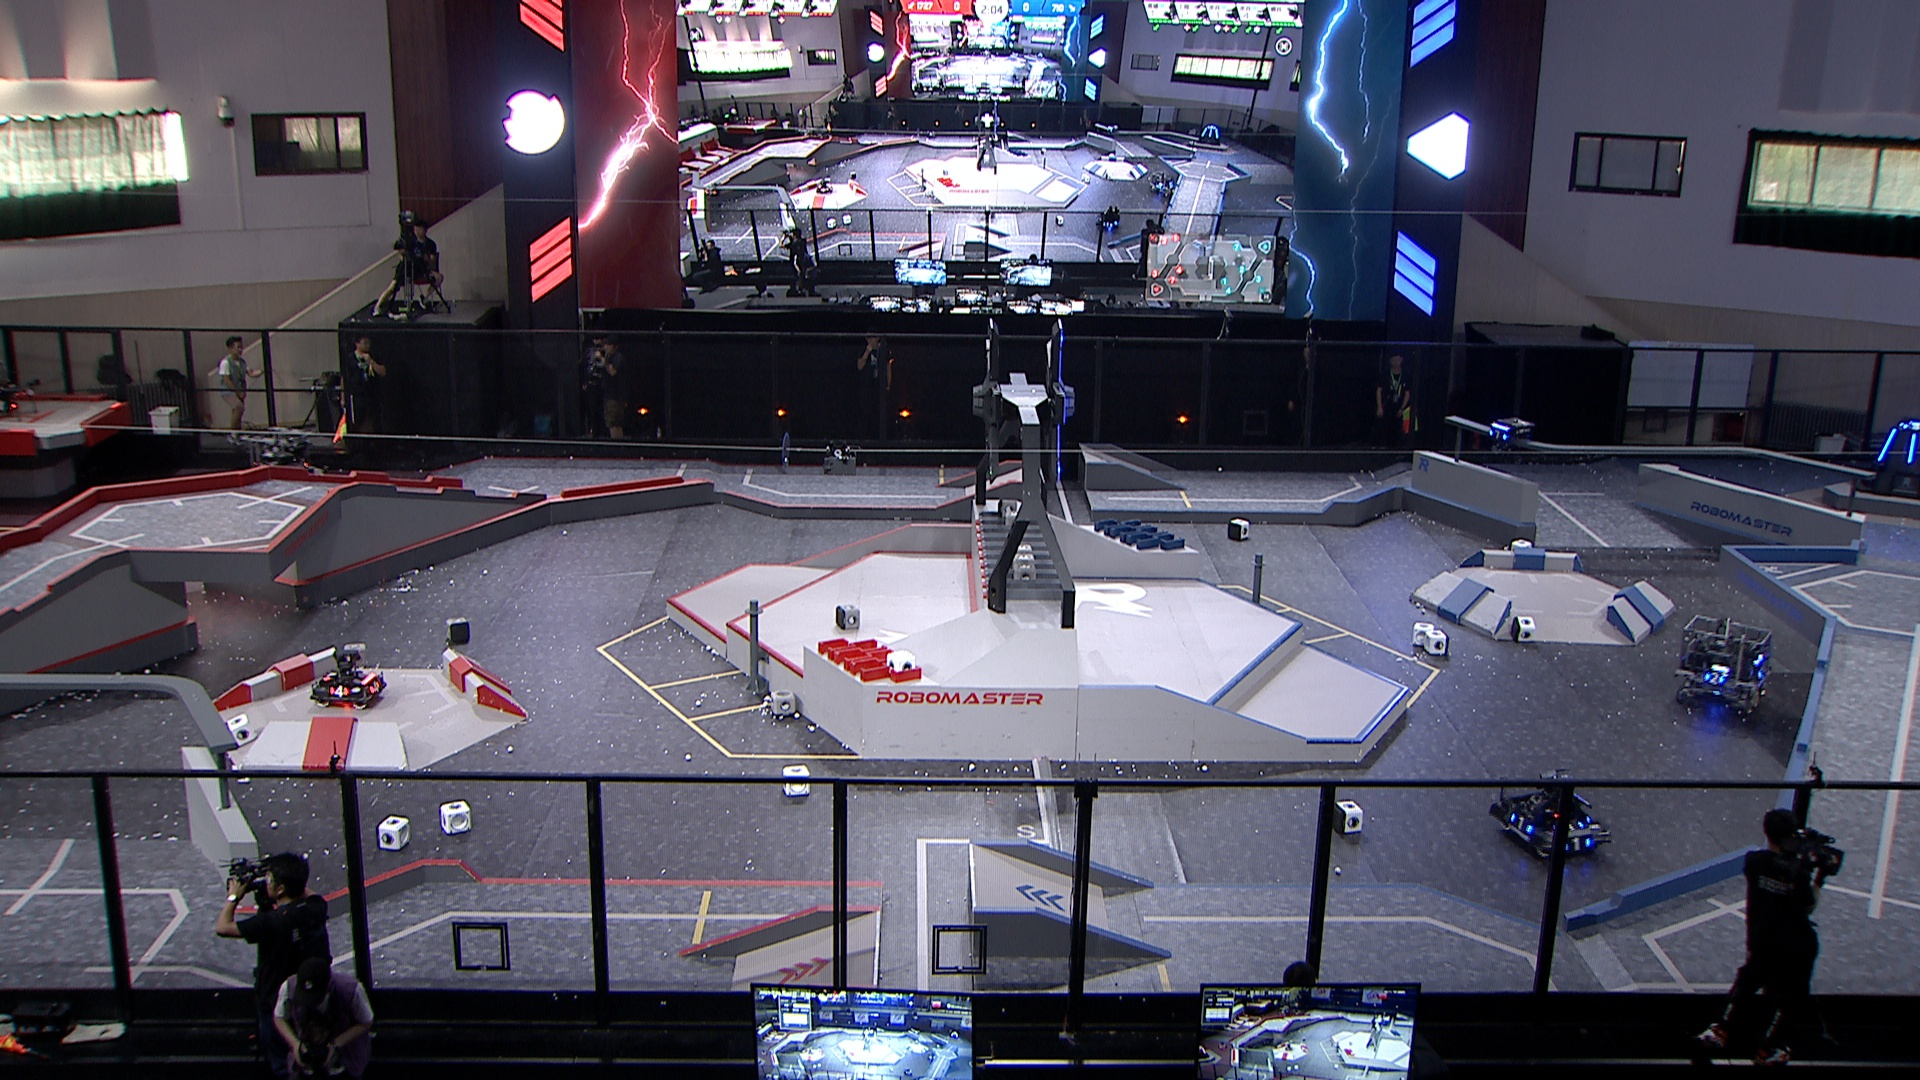armor: (1876, 429, 1898, 462), (1509, 812, 1536, 836), (1564, 836, 1592, 855), (1905, 433, 1917, 465), (328, 684, 351, 700), (1702, 673, 1726, 687), (367, 679, 384, 695), (1489, 429, 1509, 442), (320, 669, 339, 680), (1565, 820, 1584, 832), (1902, 422, 1920, 433)
base: (1855, 422, 1920, 504)
car: (1484, 771, 1613, 865), (1676, 613, 1776, 725), (239, 425, 319, 508), (273, 438, 353, 513), (309, 647, 392, 712)
ignore: (1153, 169, 1178, 199), (1197, 124, 1221, 148), (1097, 211, 1121, 232), (814, 177, 832, 194), (704, 181, 719, 200), (1105, 125, 1120, 138)
watcher: (1487, 418, 1534, 458)
